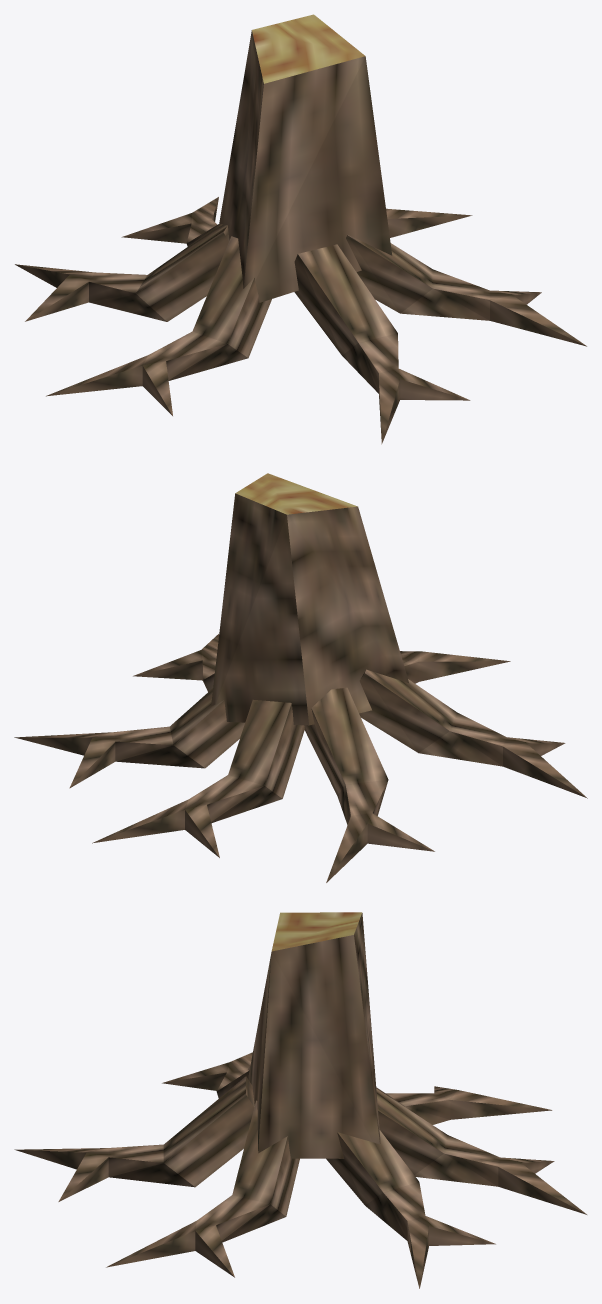
Rendered from Tocon.obj.
The picture shows the model from 3 angles, top to bottom: view 1: azimuth 30°, elevation 25°; view 2: azimuth 150°, elevation 25°; view 3: azimuth 270°, elevation 25°; orthographic projection. The views are drawn at different scales.
Parts seen in each view (by area): view 1: Cube, FrontMiddleLeg, FrontRightLeg, FrontLeftLeg, BackRightLeg, BackMiddleLeg, BackLeftLeg; view 2: Cube, BackMiddleLeg, FrontRightLeg, BackRightLeg, BackLeftLeg, FrontMiddleLeg, FrontLeftLeg; view 3: Cube, FrontMiddleLeg, FrontLeftLeg, BackMiddleLeg, BackLeftLeg, BackRightLeg, FrontRightLeg.
Part boxes in pixels (left/top/right/bottom): Cube: left=219, top=14, right=392, bottom=302; FrontMiddleLeg: left=294, top=244, right=470, bottom=444; FrontRightLeg: left=46, top=236, right=271, bottom=415; FrontLeftLeg: left=346, top=235, right=586, bottom=346; BackRightLeg: left=15, top=224, right=229, bottom=321; BackMiddleLeg: left=121, top=197, right=218, bottom=246; BackLeftLeg: left=386, top=208, right=472, bottom=237; Cube: left=211, top=473, right=408, bottom=725; BackMiddleLeg: left=92, top=699, right=304, bottom=857; FrontRightLeg: left=359, top=669, right=587, bottom=798; BackRightLeg: left=304, top=687, right=434, bottom=882; BackLeftLeg: left=14, top=688, right=244, bottom=788; FrontMiddleLeg: left=400, top=651, right=510, bottom=683; FrontLeftLeg: left=133, top=634, right=219, bottom=691; Cube: left=248, top=912, right=380, bottom=1158; FrontMiddleLeg: left=14, top=1076, right=254, bottom=1201; FrontLeftLeg: left=106, top=1100, right=299, bottom=1277; BackMiddleLeg: left=376, top=1088, right=586, bottom=1214; BackLeftLeg: left=326, top=1130, right=495, bottom=1288; BackRightLeg: left=376, top=1086, right=552, bottom=1124; FrontRightLeg: left=162, top=1052, right=252, bottom=1098.
Size of the model in its own units: 2.57 by 1.34 by 2.6.
2 materials, 2 textured.
